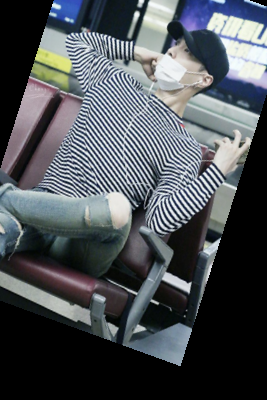mask_weared_incorrect: (149, 18, 233, 102)
